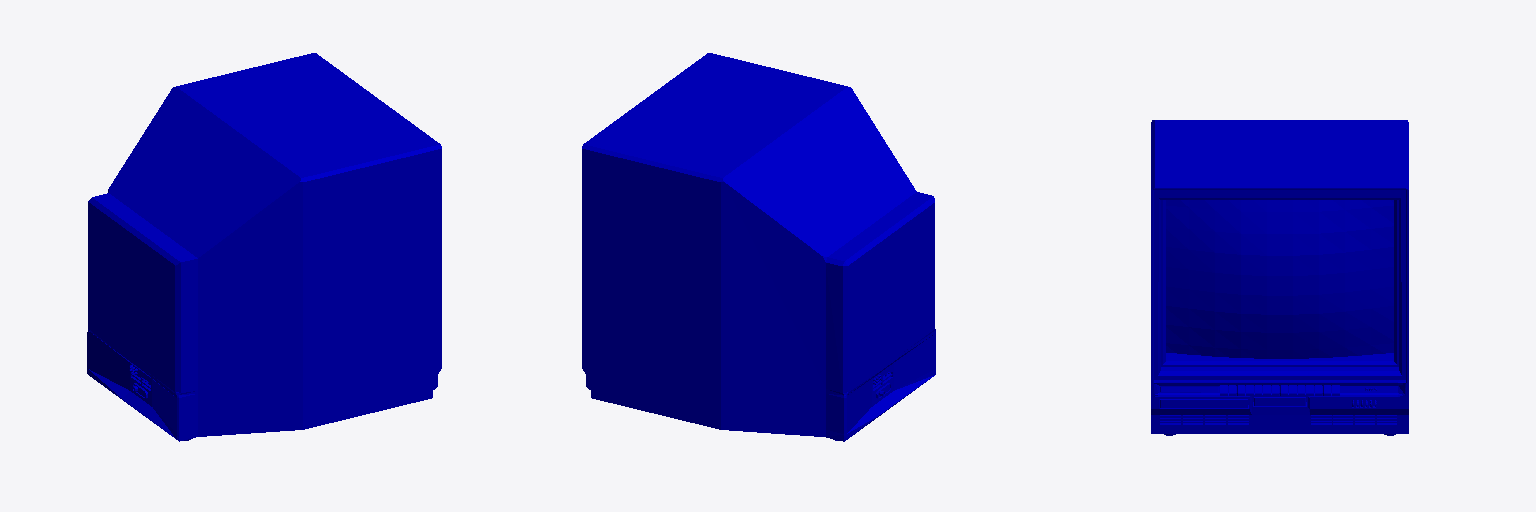
3 views of the same model, side by side, from view 1: azimuth 30°, elevation 25°; view 2: azimuth 150°, elevation 25°; view 3: azimuth 270°, elevation 25° (orthographic).
Parts seen in each view (by area): view 1: TV_Cylinder; view 2: TV_Cylinder; view 3: TV_Cylinder.
Boxes of the visible parts, <box> form: TV_Cylinder: <box>87,53,441,441</box>; TV_Cylinder: <box>582,53,935,441</box>; TV_Cylinder: <box>1151,120,1408,435</box>.
Bounding box in the file's own units: 2.22 × 2.19 × 2.